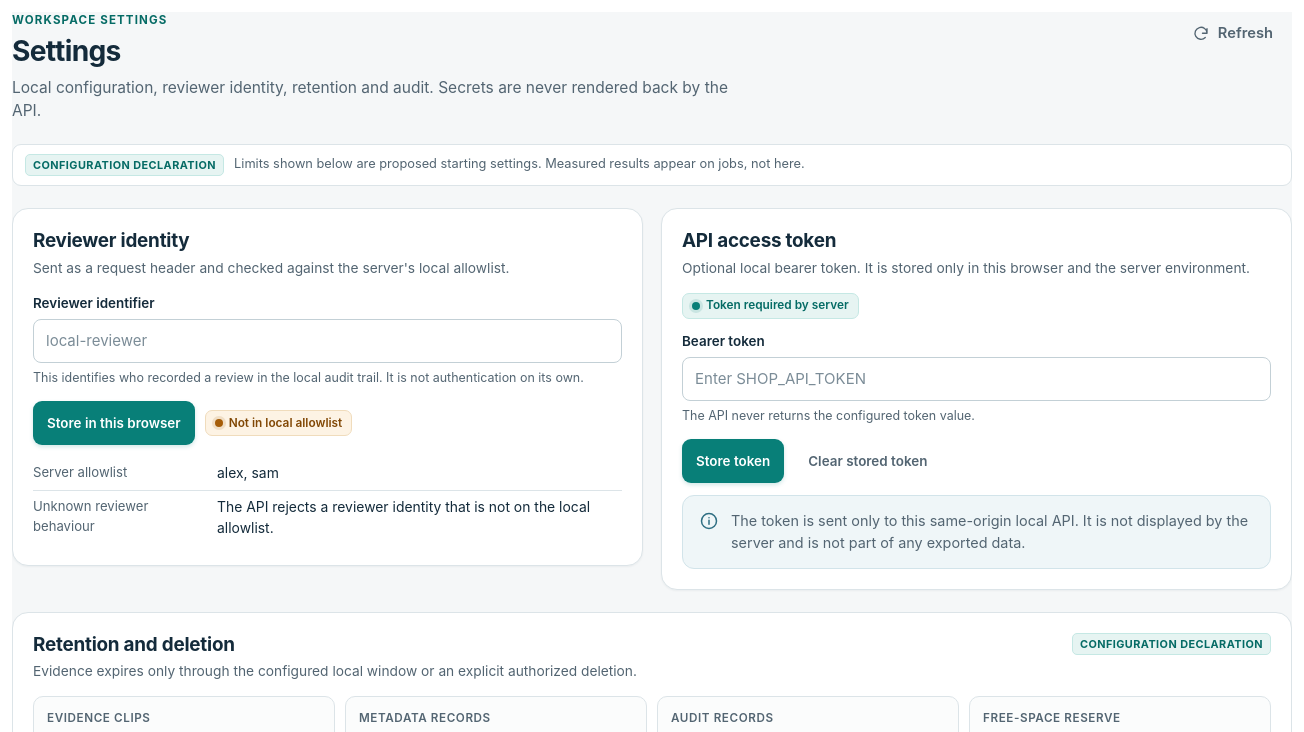
Scenario: SettingsPage › checks the reviewer against the server allowlist before storing it
In the field labelled "Reviewer identifier": (328, 341) left=33, top=319, right=622, bottom=363, type "mallory"
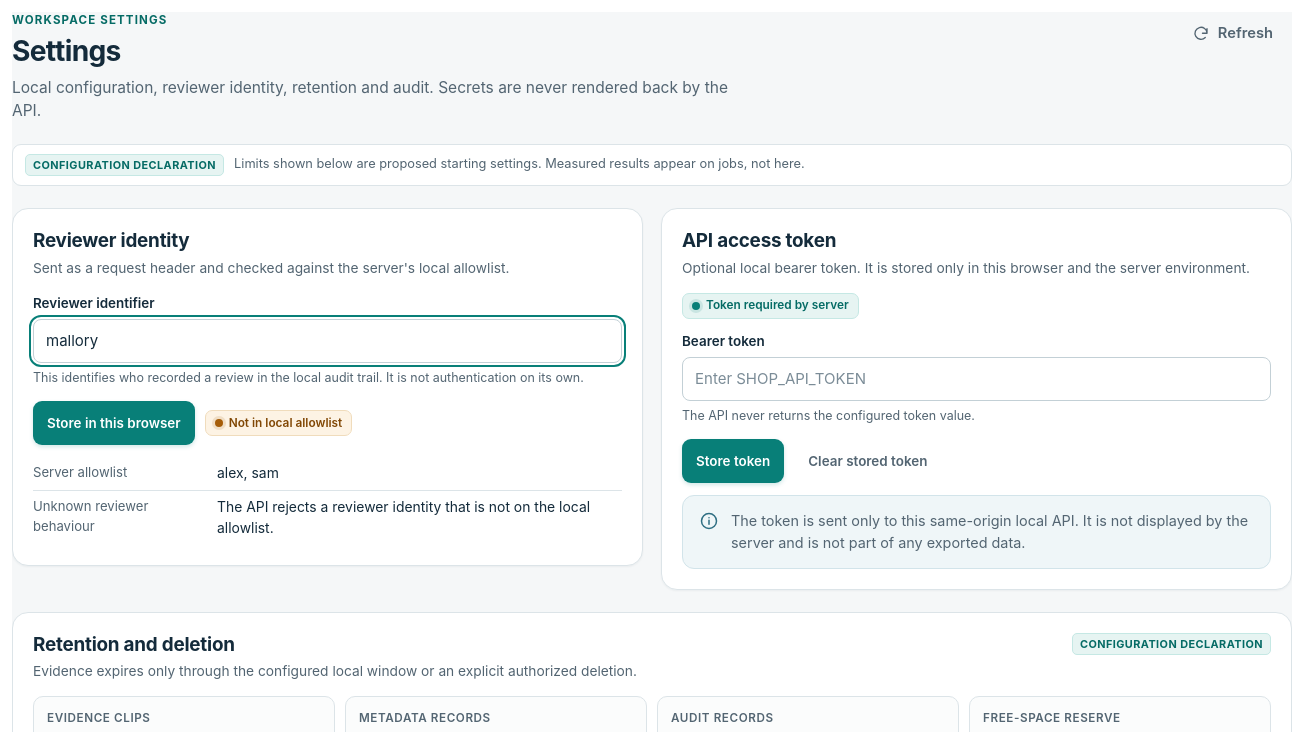
Expected: the text "Not in local allowlist" is shown, left=205, top=410, right=352, bottom=436
Replace the text in the field labelled "Reviewer identifier" with "alex": (328, 341) left=33, top=319, right=622, bottom=363
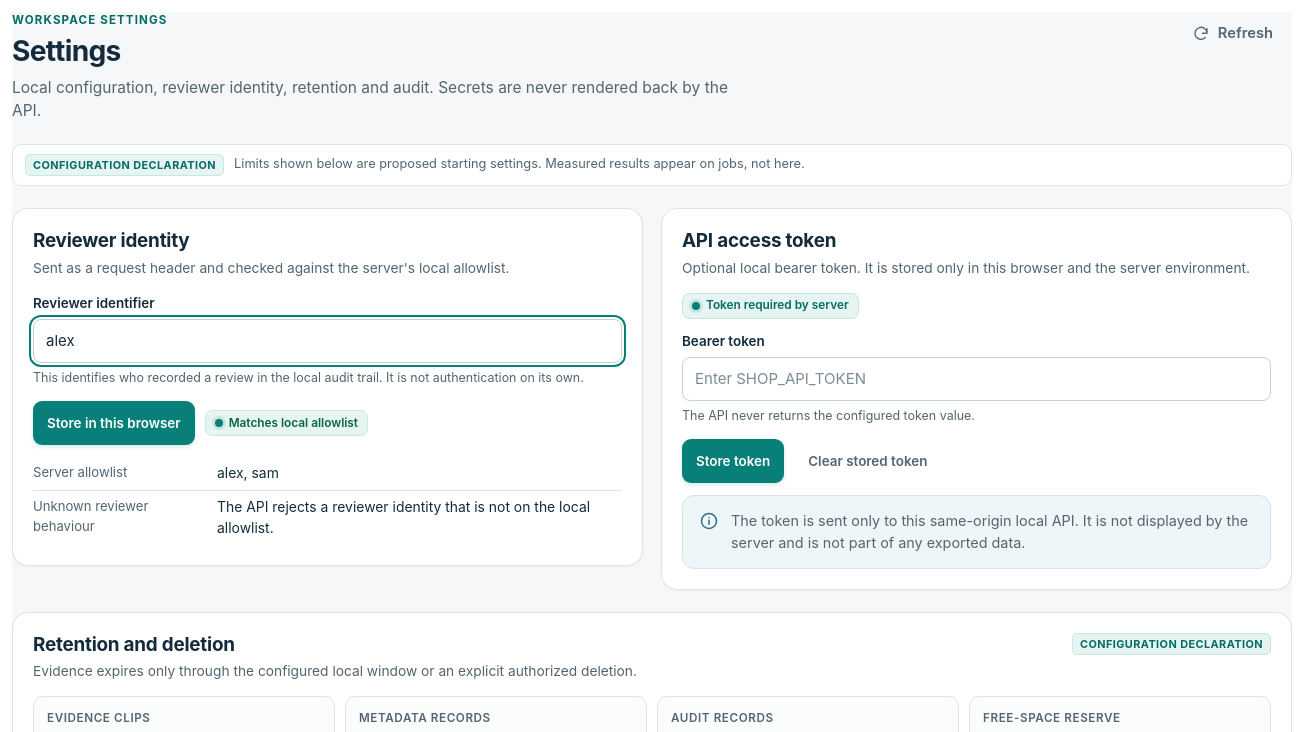
Result: the text "Matches local allowlist" is shown at left=205, top=410, right=368, bottom=436
Click the button "Store in this browser": (114, 423) left=33, top=401, right=195, bottom=445
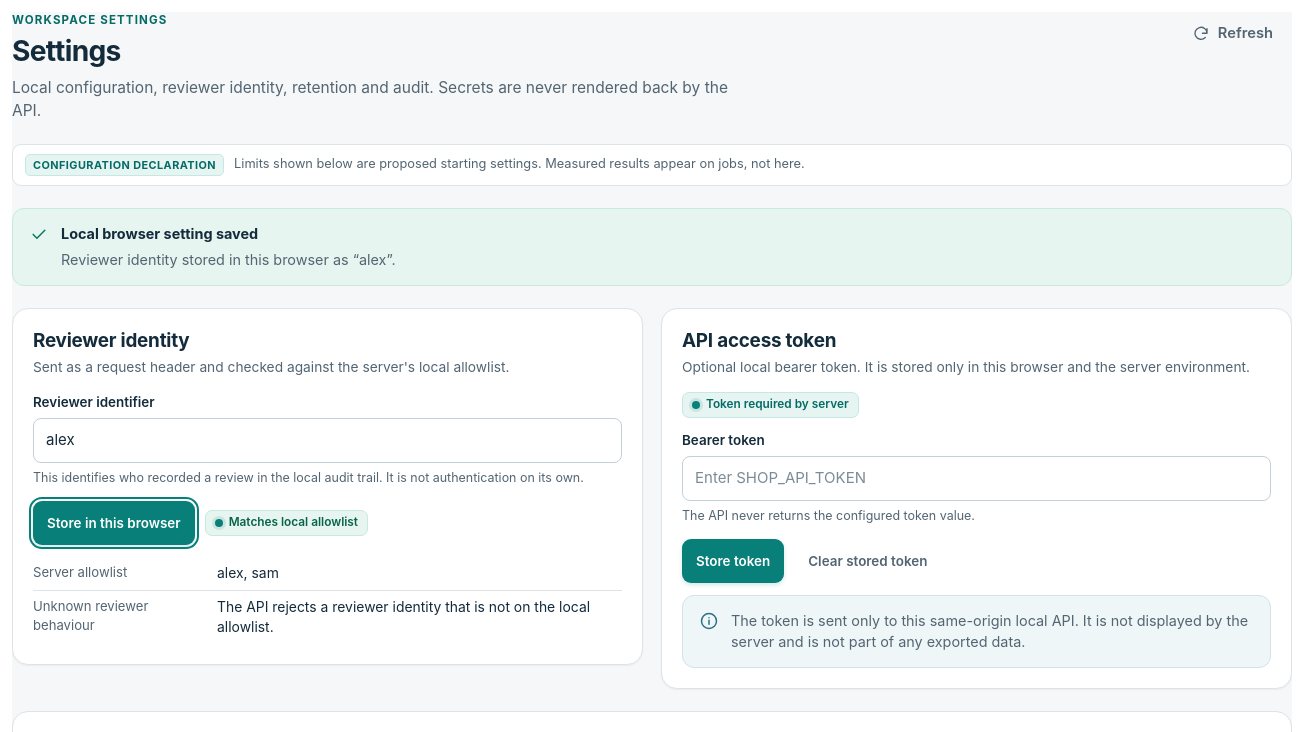
Result: the text "Local browser setting saved" is shown at left=61, top=226, right=258, bottom=242
